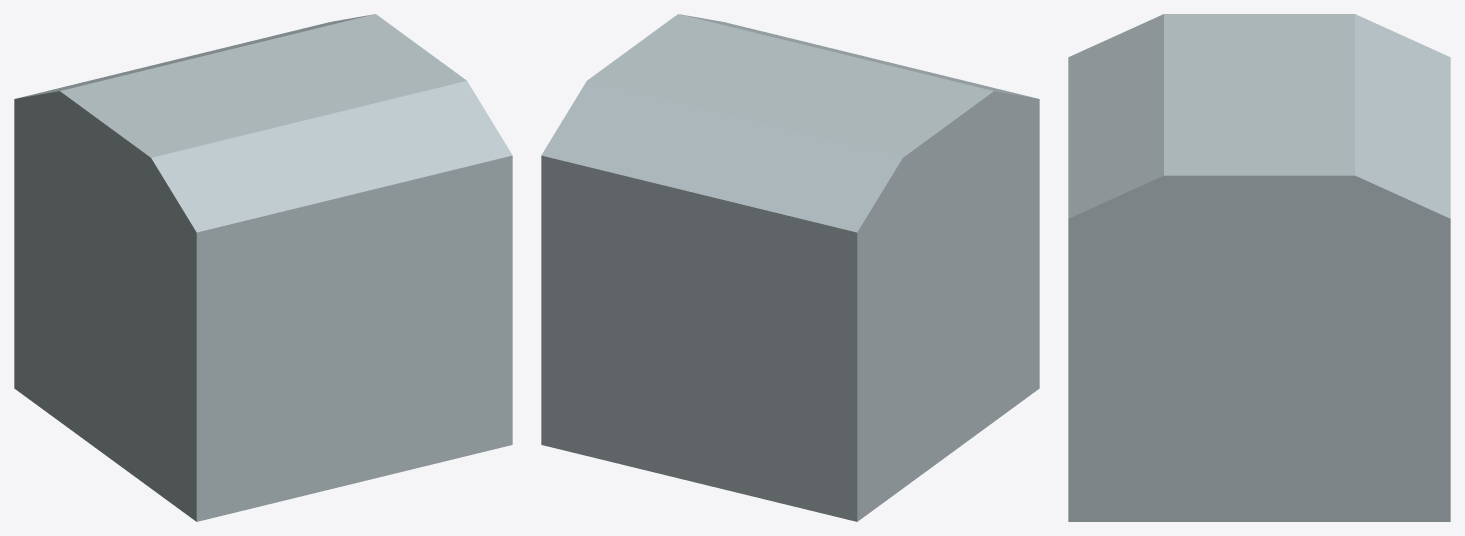
File: extractor.obj
3 views of the same model, side by side, from view 1: azimuth 30°, elevation 25°; view 2: azimuth 150°, elevation 25°; view 3: azimuth 270°, elevation 25° (orthographic). The views are drawn at different scales.
Parts seen in each view (by area): view 1: cube; view 2: cube; view 3: cube.
Boxes of the visible parts, x1,y1,x2,y2 form: cube: (14,14,512,521); cube: (541,14,1039,521); cube: (1068,14,1450,521).
Size of the model in its own units: 1 by 1 by 1.
